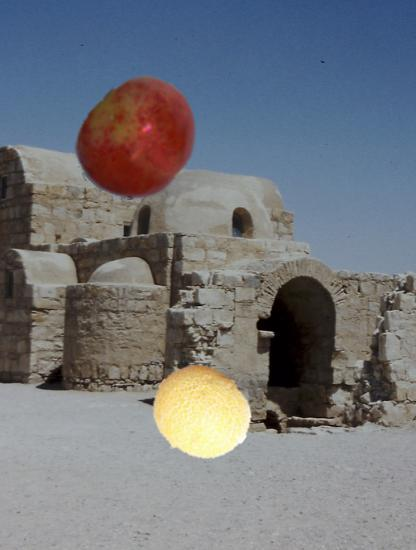Cantaloupe: (150, 363, 252, 465)
Cherry: (75, 76, 203, 204)
